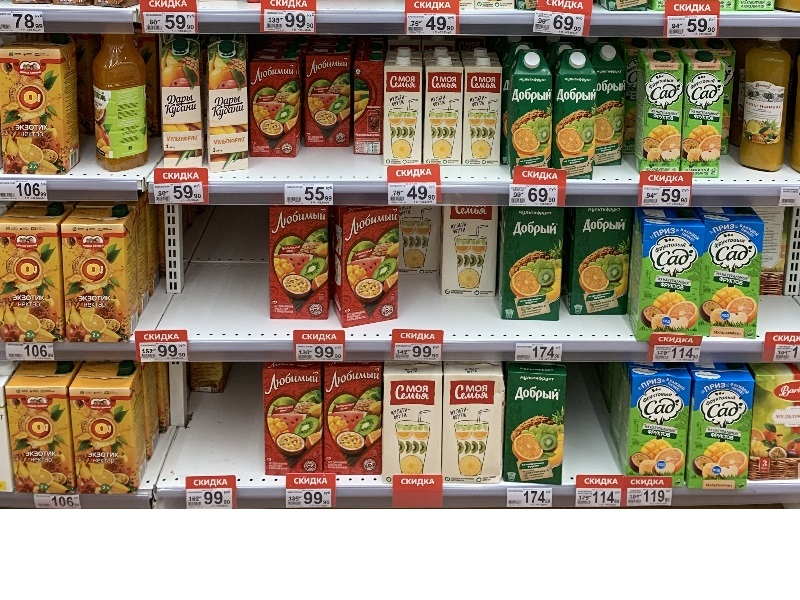juice: (2, 35, 82, 174), (631, 208, 710, 343), (64, 203, 139, 344), (3, 199, 74, 346), (258, 200, 340, 322), (500, 361, 573, 494), (687, 361, 758, 494), (700, 207, 768, 343), (619, 360, 696, 480), (330, 201, 397, 333), (320, 359, 389, 484), (259, 361, 326, 482), (498, 205, 566, 324), (503, 47, 559, 169), (633, 47, 687, 171), (248, 47, 304, 164), (552, 47, 598, 185), (300, 42, 355, 155), (680, 47, 726, 182)
